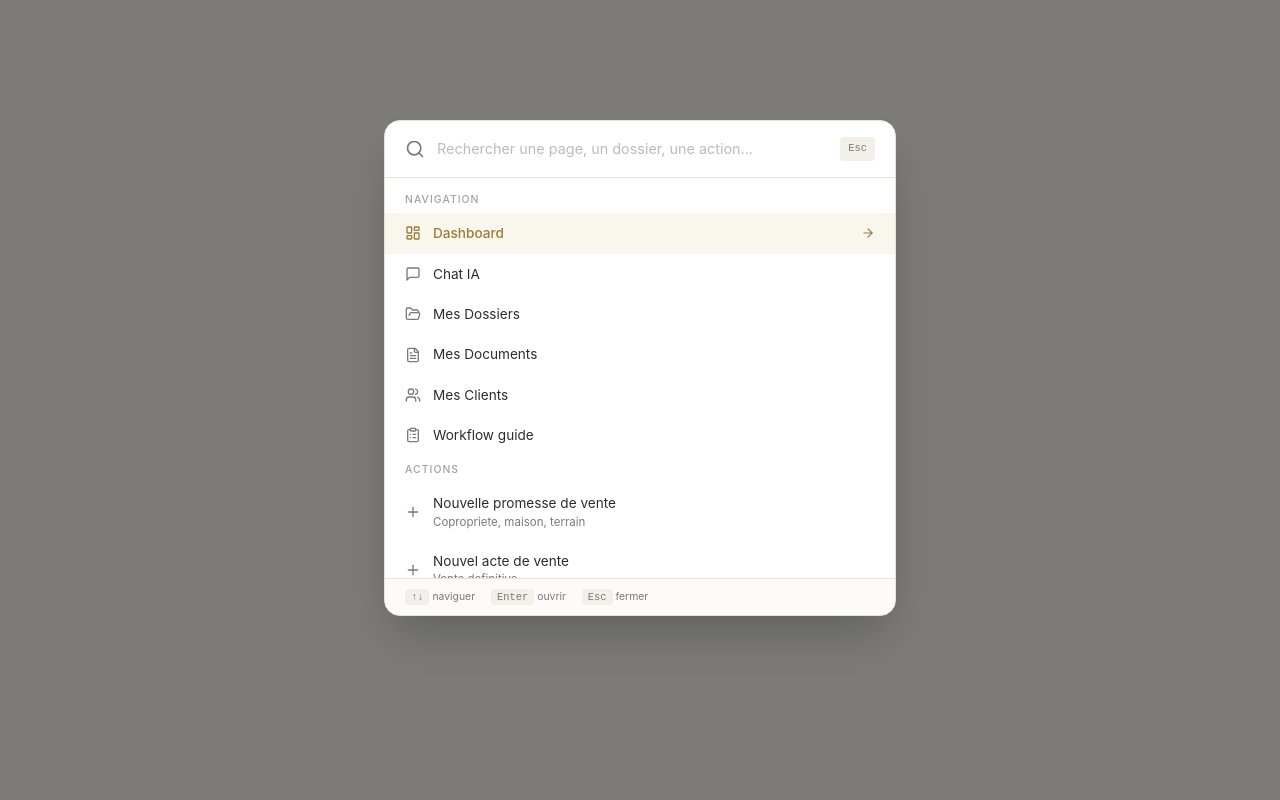
Scenario: CommandPalette › shows empty state for no results
Type "zzzznonexistent" into the field with placeholder "Rechercher une page, un dossier, une action..." at (633, 149), box x1=437 y1=138 x2=828 y2=160
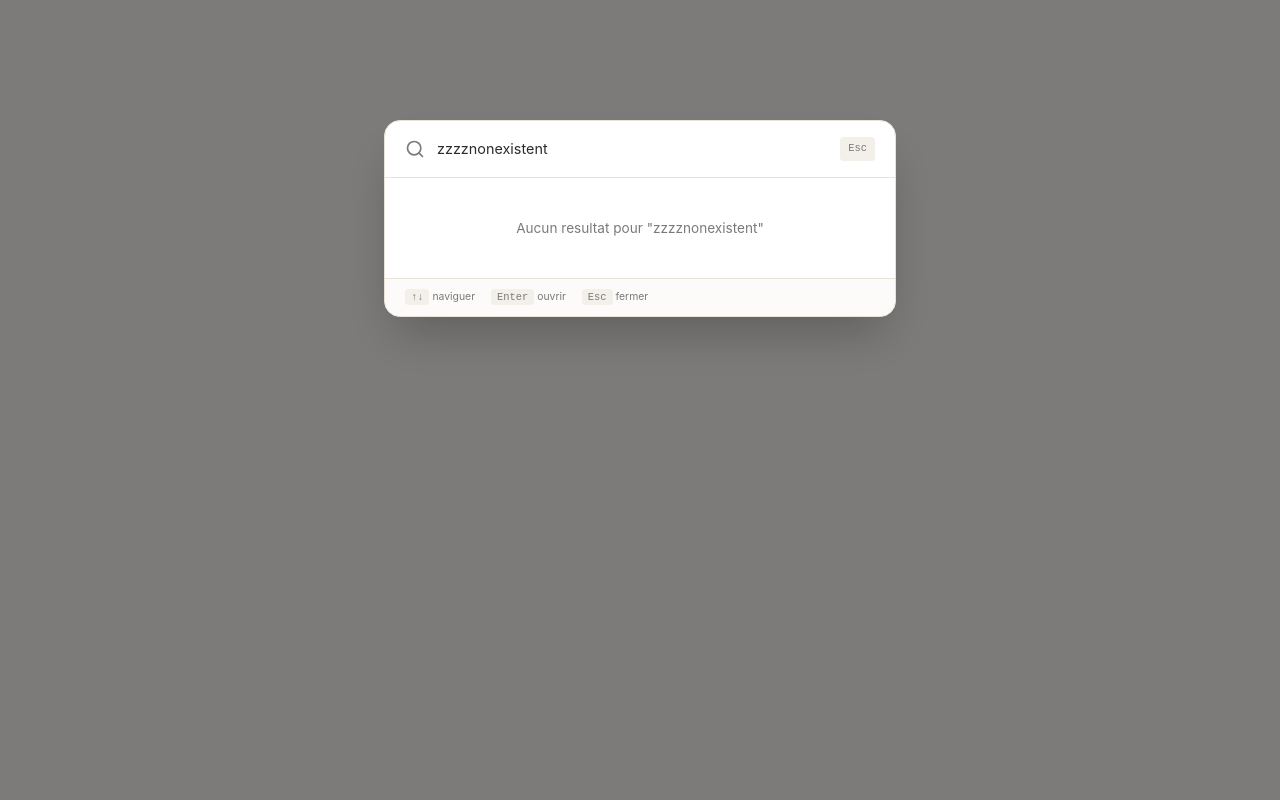
Now the text "Aucun resultat pour \"zzzznonexistent\"" is shown, box x1=516 y1=220 x2=764 y2=236
